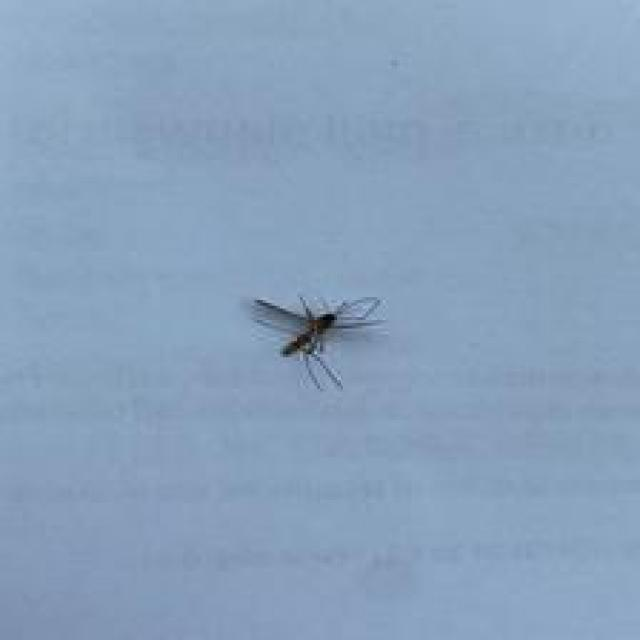Culex: (248, 292, 386, 392)
